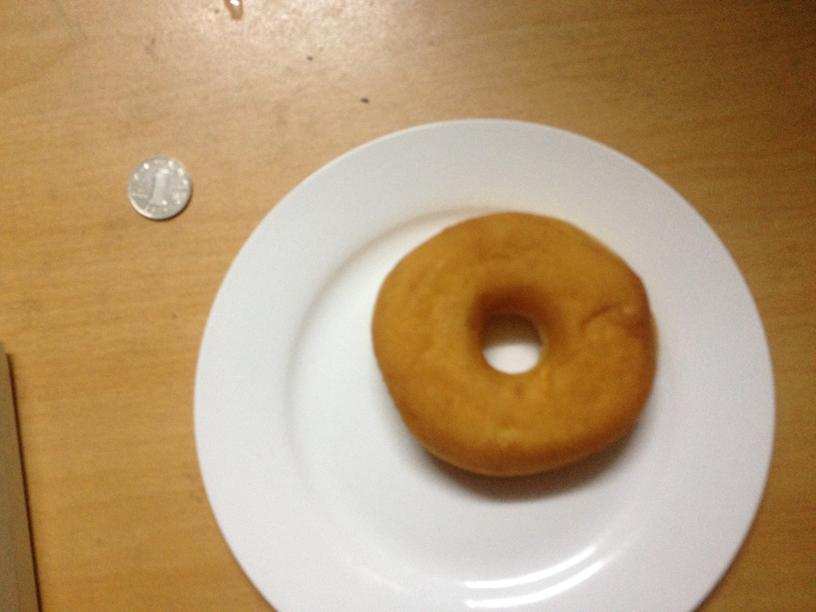coin: (125, 155, 192, 220)
doughnut: (367, 210, 654, 479)
